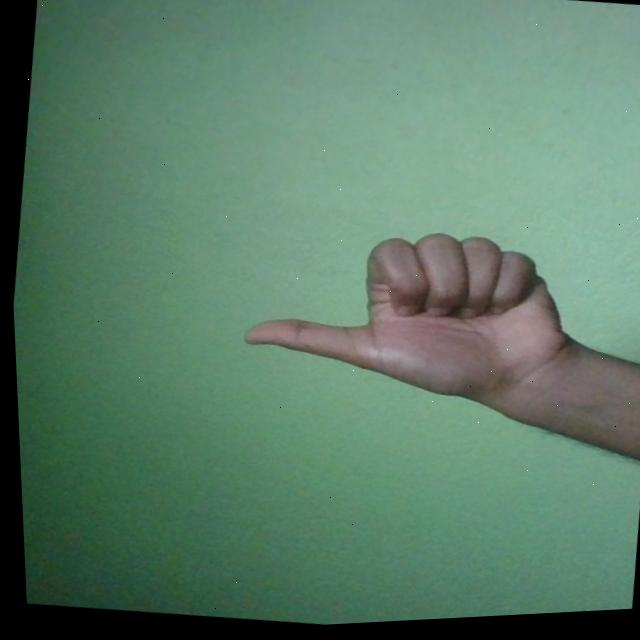Good Job: (230, 208, 584, 421)
